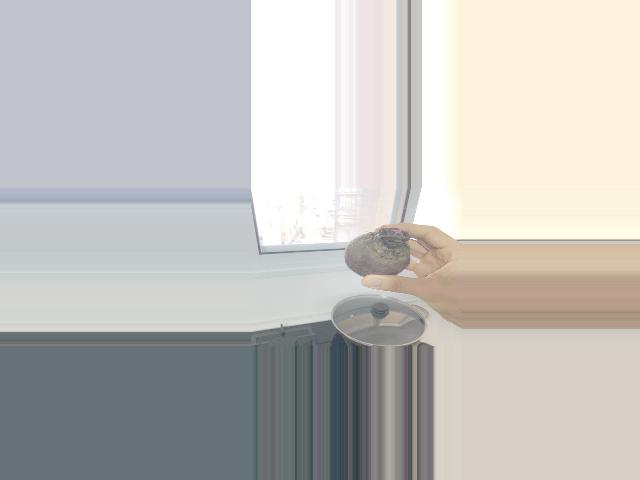beet: (343, 227, 429, 277)
